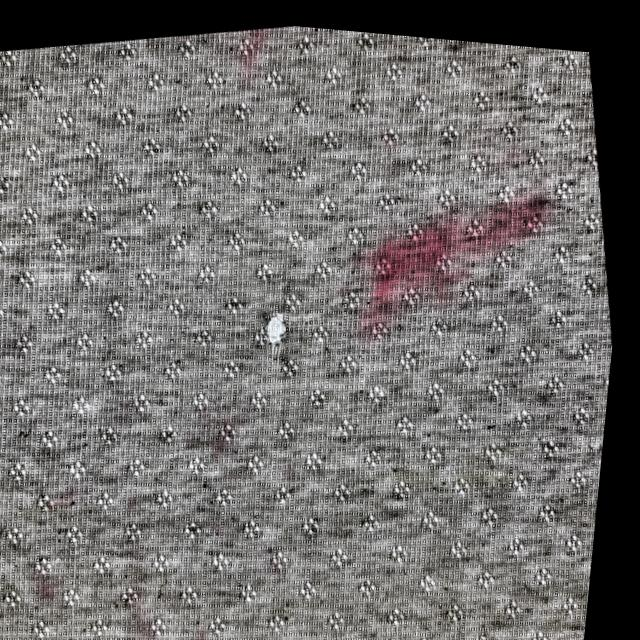Hole: (286, 334, 339, 380)
